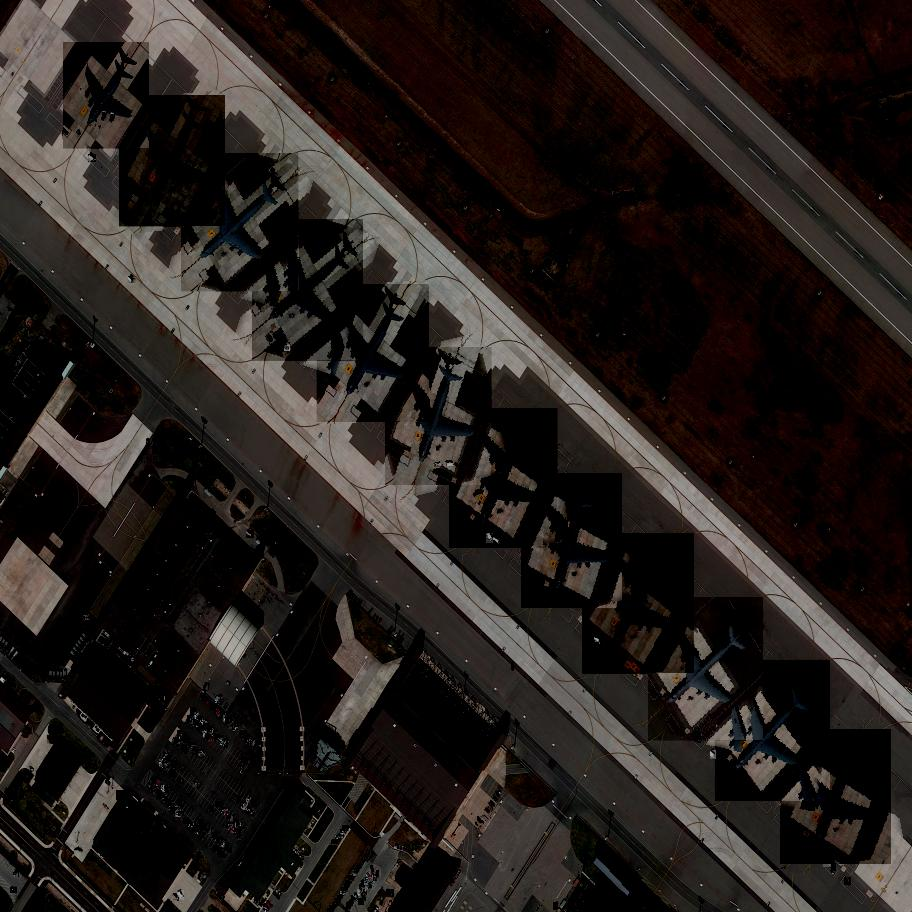large-vehicle: (822, 857, 832, 867), (203, 489, 212, 499), (486, 534, 494, 544), (177, 890, 184, 901), (88, 154, 97, 162), (246, 530, 255, 538), (694, 734, 702, 743), (216, 695, 223, 705), (128, 275, 136, 283), (843, 878, 851, 886), (710, 751, 717, 760), (553, 902, 559, 910), (189, 825, 194, 830), (595, 638, 599, 643), (436, 465, 443, 467)
plane: (633, 598, 777, 741), (236, 220, 382, 361), (699, 660, 841, 802), (166, 154, 309, 292), (571, 534, 702, 674), (305, 285, 435, 422), (441, 408, 565, 548), (377, 347, 498, 486), (772, 729, 896, 864), (114, 96, 234, 227), (514, 473, 626, 608), (54, 43, 157, 150)
small-vehicle: (115, 790, 125, 800), (385, 890, 395, 897), (162, 753, 170, 761), (169, 769, 177, 777), (207, 518, 215, 526), (246, 738, 254, 746), (251, 799, 258, 808), (13, 869, 20, 878), (221, 839, 228, 848), (241, 732, 248, 741), (171, 761, 179, 768), (166, 755, 173, 763), (165, 764, 172, 772), (198, 820, 205, 828), (193, 747, 200, 755), (10, 887, 18, 894), (175, 809, 182, 817), (62, 131, 69, 139), (266, 900, 273, 908), (237, 795, 243, 804), (217, 710, 223, 719), (243, 804, 250, 811), (249, 810, 256, 817), (151, 786, 158, 793), (162, 795, 169, 802), (830, 865, 837, 872), (358, 898, 365, 905), (477, 817, 484, 824), (198, 717, 205, 724), (206, 699, 213, 706), (298, 853, 305, 860), (293, 848, 300, 855), (159, 759, 165, 767), (173, 894, 181, 900), (47, 736, 53, 744), (168, 801, 174, 809), (181, 744, 187, 752), (361, 893, 367, 901), (283, 345, 291, 351), (191, 707, 197, 715), (220, 738, 226, 746), (204, 683, 210, 691), (212, 703, 218, 711), (214, 707, 220, 715), (225, 842, 230, 851), (224, 739, 229, 748), (177, 765, 183, 772), (178, 778, 185, 784), (201, 824, 208, 830), (192, 782, 199, 788), (221, 807, 227, 814), (227, 812, 233, 819), (28, 767, 35, 773), (219, 851, 226, 857), (177, 800, 183, 807), (200, 832, 206, 839), (368, 882, 374, 889), (212, 730, 218, 737), (195, 723, 201, 730), (200, 729, 206, 736), (218, 735, 225, 741), (244, 735, 250, 742), (342, 825, 349, 831), (220, 712, 227, 718), (231, 825, 236, 833), (156, 779, 161, 787), (247, 806, 252, 814), (229, 813, 234, 821), (173, 807, 178, 815), (244, 757, 249, 765), (354, 893, 359, 901), (76, 848, 84, 853), (225, 717, 230, 725), (216, 802, 222, 808), (207, 829, 213, 835), (199, 753, 205, 759), (179, 735, 185, 741), (186, 739, 192, 745), (170, 803, 174, 812), (367, 872, 373, 878), (194, 713, 200, 719), (207, 727, 213, 733), (204, 697, 210, 703), (239, 731, 245, 737), (152, 777, 157, 784), (224, 809, 229, 816), (242, 801, 247, 808), (235, 820, 240, 827), (213, 832, 218, 839), (185, 748, 190, 755), (149, 783, 154, 790), (157, 790, 162, 797), (192, 825, 197, 832), (370, 879, 375, 886), (183, 838, 190, 843), (203, 724, 210, 729), (240, 766, 245, 773), (223, 715, 228, 722), (233, 726, 238, 733), (229, 823, 233, 831), (165, 786, 169, 794), (178, 731, 182, 739), (238, 824, 243, 830), (217, 849, 222, 855), (228, 847, 233, 853), (153, 790, 159, 795), (166, 799, 171, 805), (213, 847, 219, 852), (184, 818, 189, 824), (363, 889, 368, 895), (348, 875, 354, 880), (202, 515, 208, 520), (334, 902, 340, 907), (349, 901, 354, 907), (197, 715, 202, 721), (211, 727, 216, 733), (190, 719, 195, 725), (204, 732, 209, 738), (206, 735, 211, 741), (251, 741, 256, 747), (335, 836, 341, 841), (230, 724, 236, 729), (226, 821, 230, 828), (162, 785, 166, 792), (361, 880, 365, 887), (365, 874, 369, 881), (373, 874, 377, 881), (332, 840, 339, 844), (215, 735, 220, 740), (264, 904, 269, 909), (341, 830, 346, 835), (211, 806, 215, 812), (237, 831, 241, 837), (375, 871, 379, 877), (371, 868, 375, 874), (254, 744, 258, 750), (210, 736, 214, 742), (338, 834, 344, 838), (229, 719, 233, 725), (364, 878, 367, 885), (194, 720, 197, 727), (330, 906, 335, 910), (160, 793, 163, 799), (188, 819, 191, 825), (357, 889, 360, 895), (353, 869, 359, 872), (177, 739, 180, 744), (356, 865, 361, 868), (188, 716, 191, 721), (192, 744, 194, 751), (147, 439, 149, 446), (196, 826, 198, 833), (347, 902, 349, 909), (163, 762, 165, 768), (174, 737, 176, 743), (189, 742, 191, 748), (235, 795, 237, 801), (344, 884, 348, 887), (511, 662, 513, 668), (202, 720, 204, 726), (202, 693, 204, 699), (216, 837, 218, 842), (184, 735, 186, 740), (197, 750, 199, 755), (241, 757, 243, 762), (179, 813, 182, 816), (346, 880, 349, 883), (198, 831, 200, 835), (367, 886, 369, 890), (235, 829, 237, 832), (219, 839, 221, 842), (342, 888, 345, 890), (352, 897, 353, 903), (210, 702, 211, 708), (340, 891, 345, 892), (199, 726, 200, 731), (359, 885, 360, 889), (352, 873, 356, 874), (338, 896, 341, 897), (335, 899, 338, 899)
